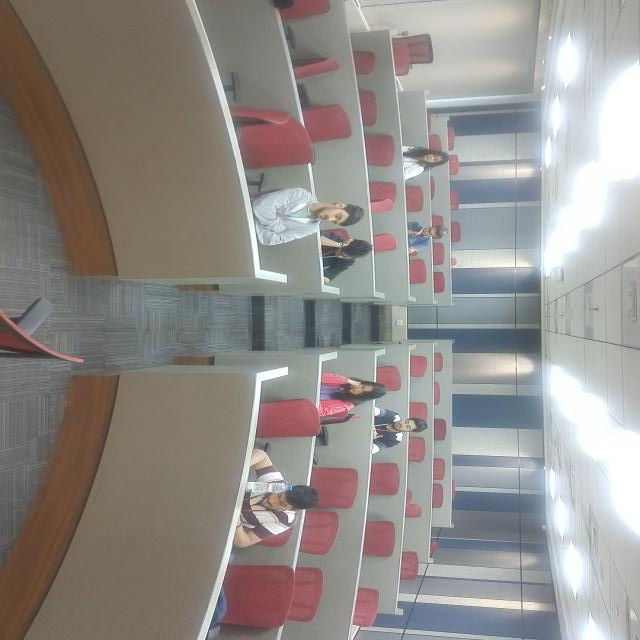non-cheating: (184, 267, 252, 410)
